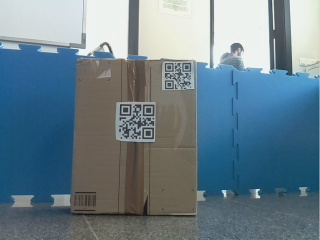caja: (74, 57, 198, 218)
